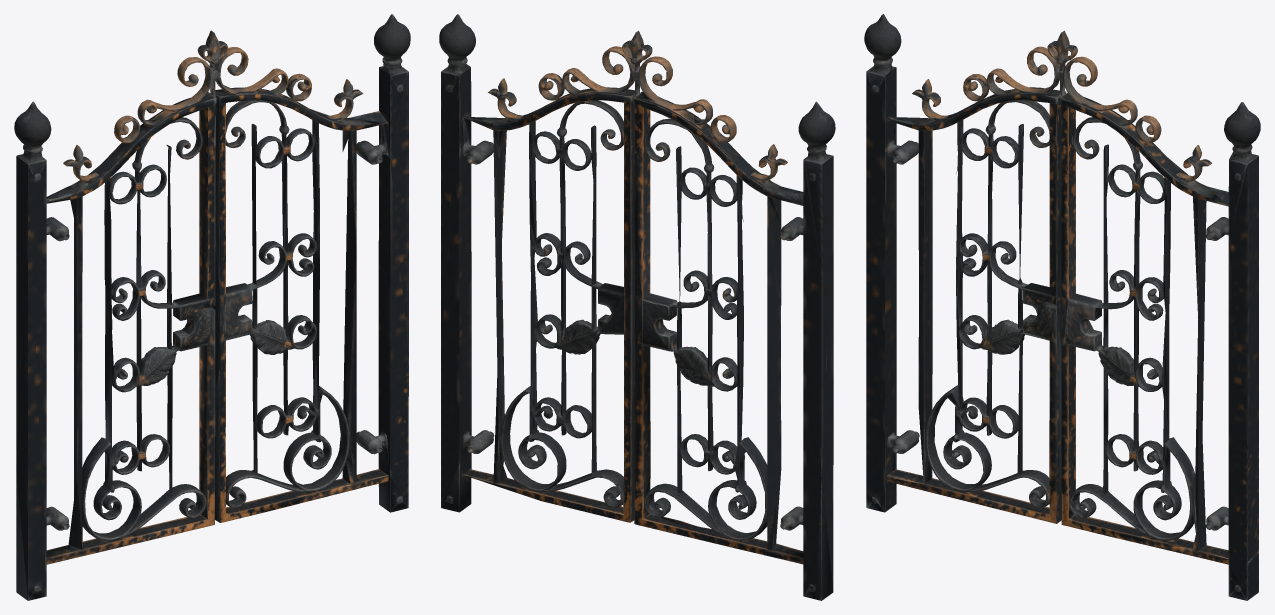
File: portao-de-ferro__01a163b9.glb
The picture shows the model from 3 angles, left to right: view 1: azimuth 30°, elevation 25°; view 2: azimuth 150°, elevation 25°; view 3: azimuth 330°, elevation 25°; orthographic projection.
Parts seen in each view (by area): view 1: portao-de-ferro__01a163b9; view 2: portao-de-ferro__01a163b9; view 3: portao-de-ferro__01a163b9.
Part boxes in pixels (x1=…): portao-de-ferro__01a163b9: x1=14, y1=14, x2=410, y2=600; portao-de-ferro__01a163b9: x1=439, y1=14, x2=835, y2=600; portao-de-ferro__01a163b9: x1=864, y1=14, x2=1260, y2=600.
Size of the model in its own units: 1.74 by 2.2 by 0.1631.
Materials: 1 (1 with a texture image).
